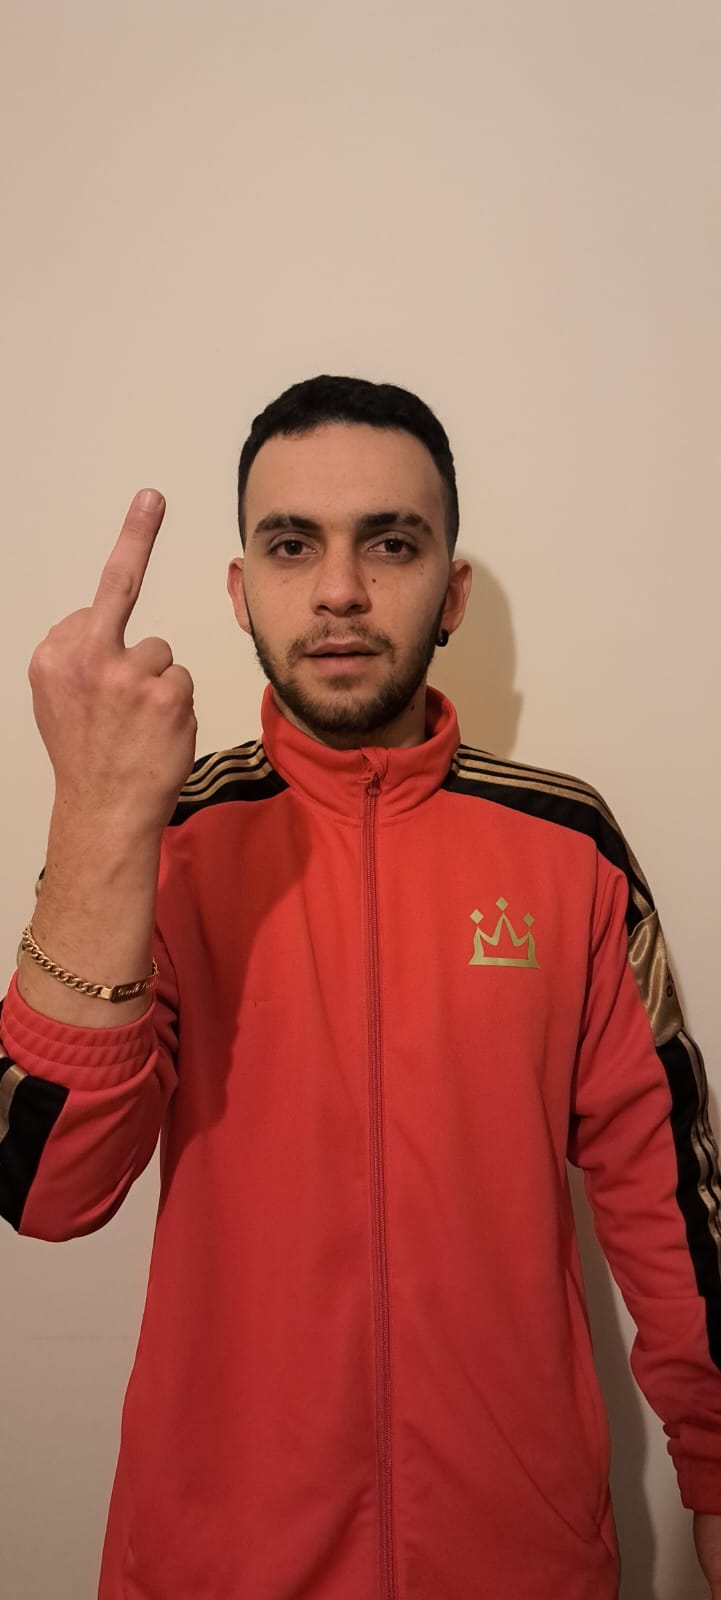fck: (17, 478, 213, 836)
